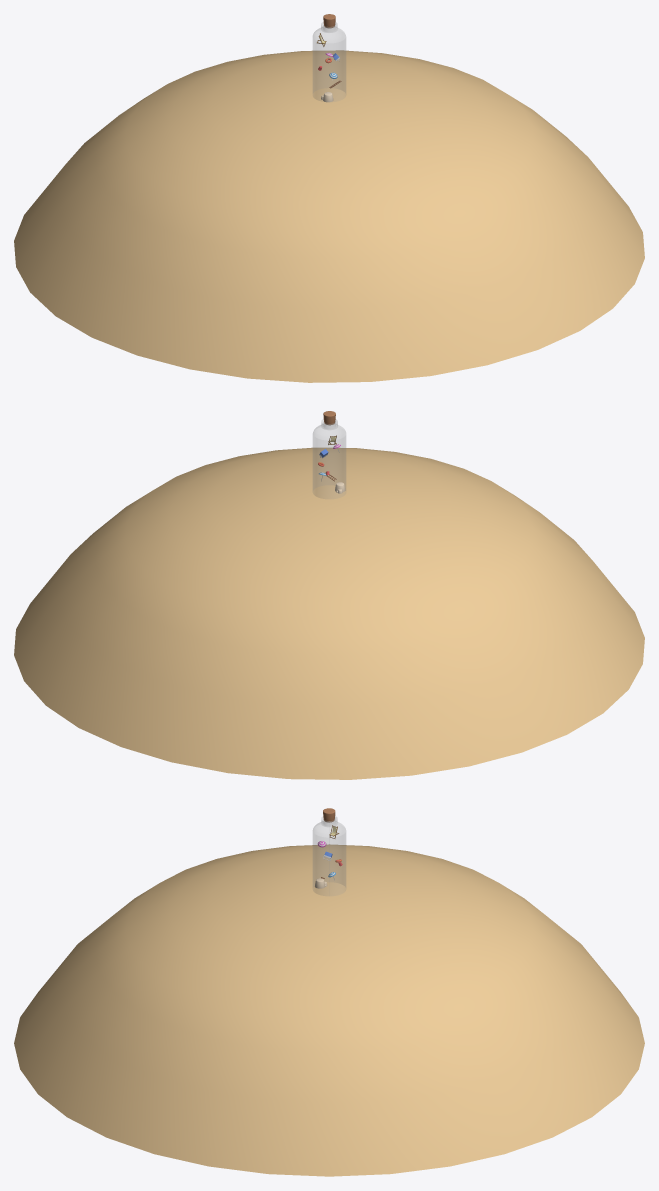
The model's file is Tudo.fbx.
3 views of the same model, one above another, from view 1: azimuth 30°, elevation 25°; view 2: azimuth 150°, elevation 25°; view 3: azimuth 270°, elevation 25° (orthographic).
Parts seen in each view (by area): view 1: Cylinder.001, Cylinder; view 2: Cylinder.001, Cylinder; view 3: Cylinder.001, Cylinder.
Part boxes in pixels (x1=…): Cylinder.001: x1=14, y1=50, x2=644, y2=382; Cylinder: x1=313, y1=22, x2=345, y2=101; Cylinder.001: x1=14, y1=447, x2=644, y2=779; Cylinder: x1=313, y1=419, x2=345, y2=498; Cylinder.001: x1=14, y1=844, x2=644, y2=1176; Cylinder: x1=313, y1=816, x2=345, y2=895.
Size of what is drawn, in the model's own units: 15620 by 6353 by 15620.
